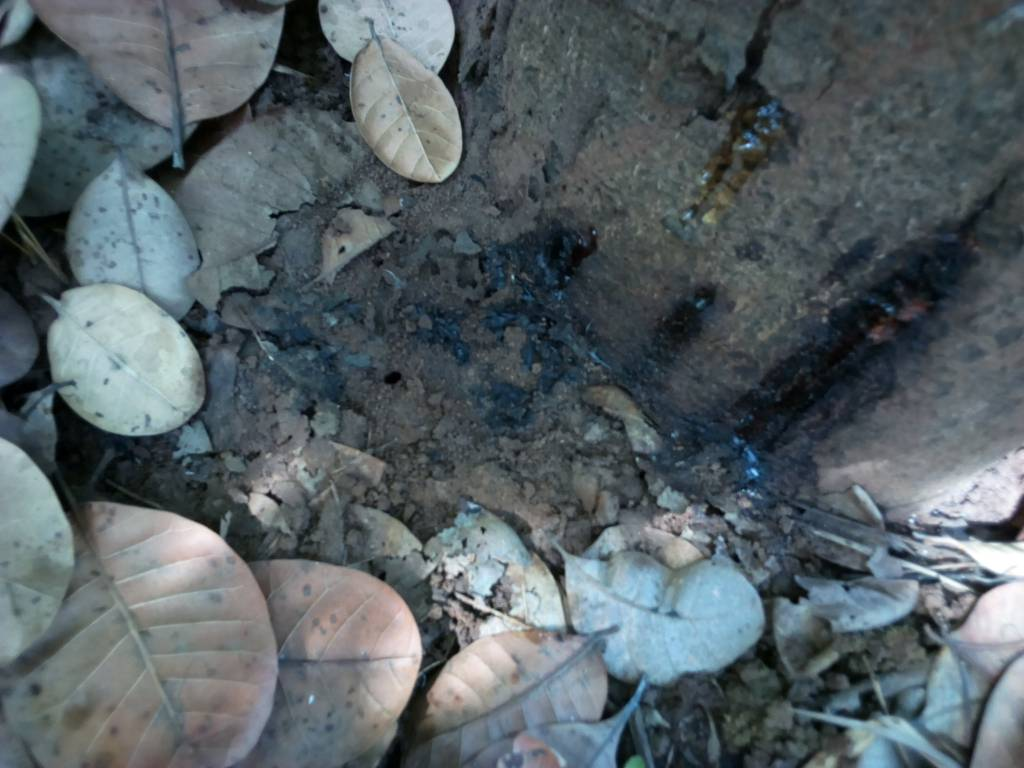Mecocorynus longiceps: (688, 79, 802, 253), (494, 211, 623, 323), (636, 272, 731, 383)
